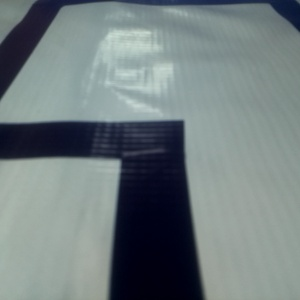bottom_right: (101, 14, 182, 51)
top_left: (72, 1, 141, 23)
top_right: (121, 1, 193, 27)
